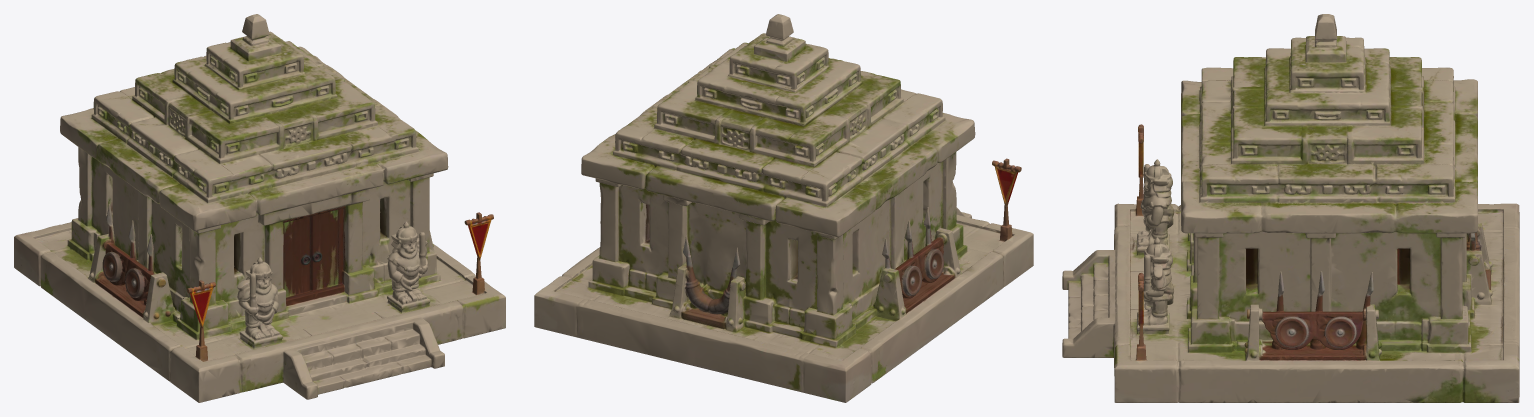
The model's file is barak_lite.glb.
3 renders of one model, left to right at view 1: azimuth 30°, elevation 25°; view 2: azimuth 150°, elevation 25°; view 3: azimuth 270°, elevation 25°, orthographic. The views are drawn at different scales.
Size of the model in its own units: 1.61 by 1.4 by 1.9.
Materials: 1 (1 with a texture image).
